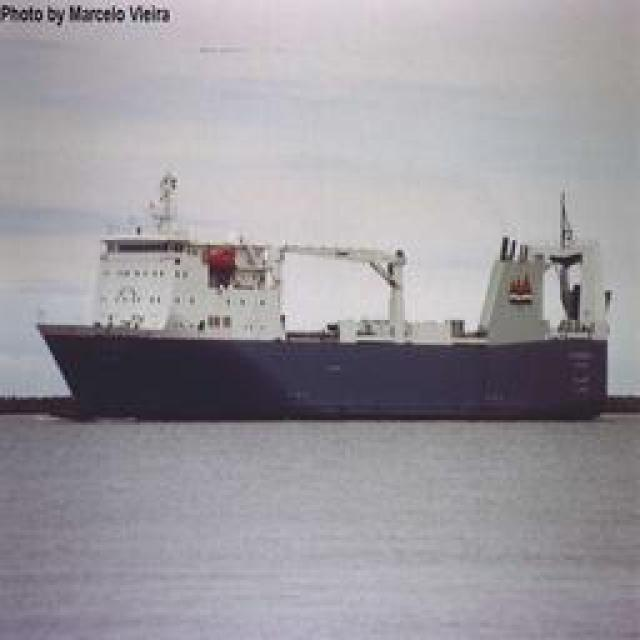Ship: (27, 208, 627, 423)
